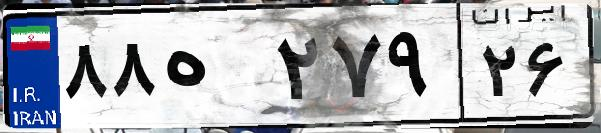2: (270, 28, 330, 110), (475, 38, 525, 113)
6: (525, 38, 570, 115)
7: (330, 28, 385, 110)
8: (57, 26, 110, 100), (110, 28, 158, 98)
9: (385, 28, 445, 110)
ه: (158, 20, 270, 120)
